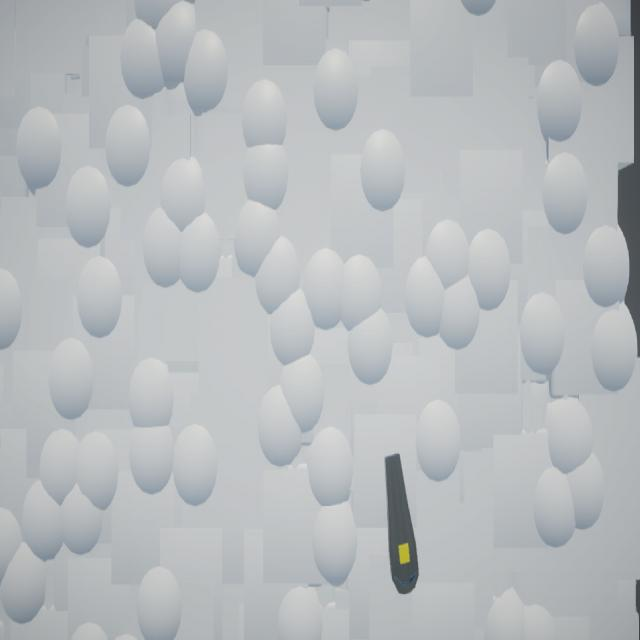handle_knife: (386, 454, 420, 595)
